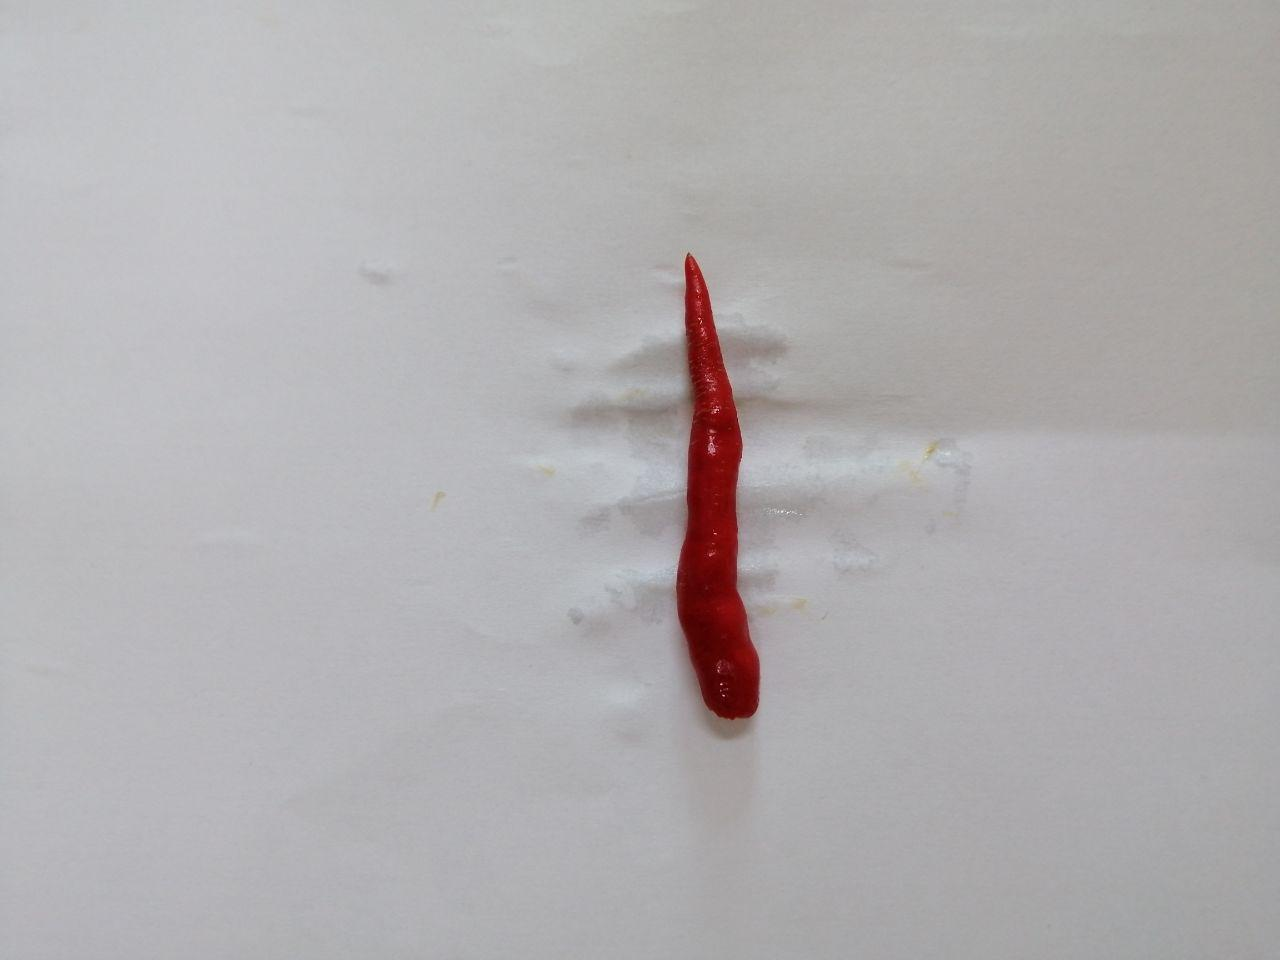lada merah: (652, 231, 787, 747)
